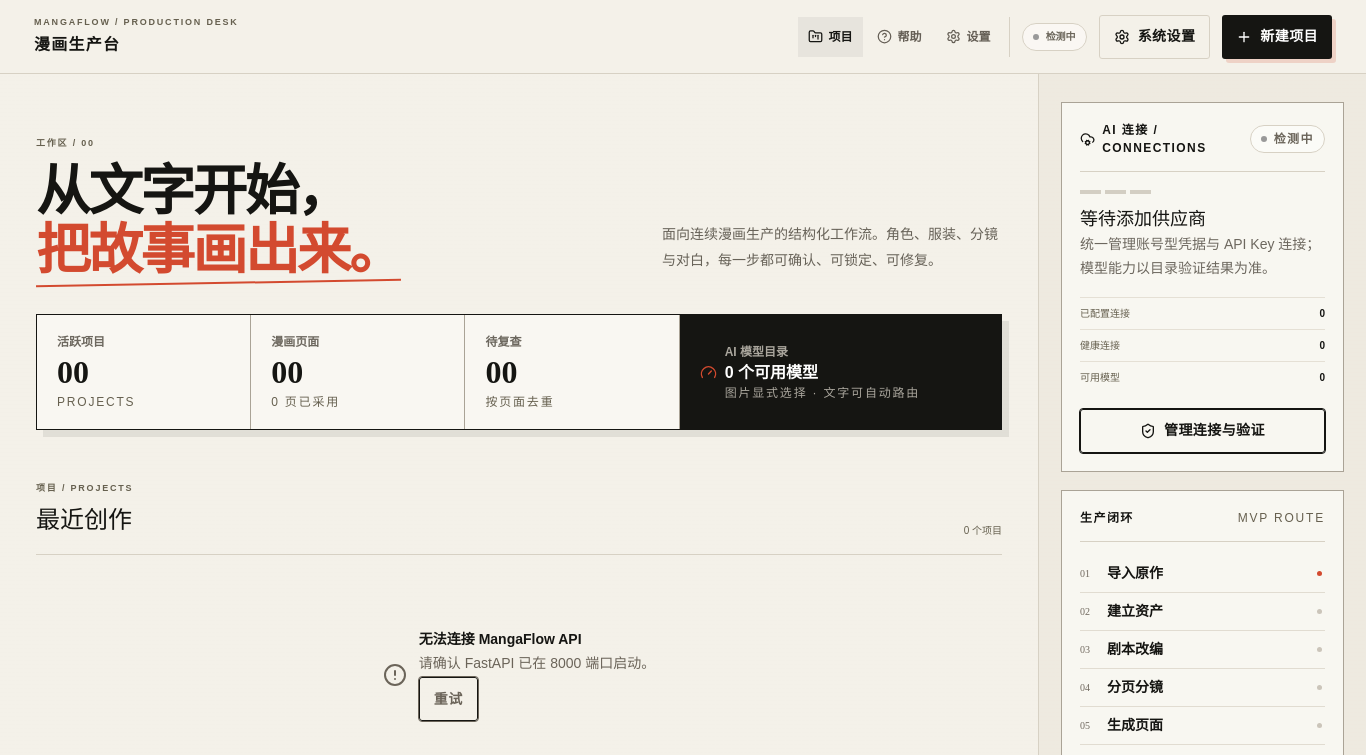
Scenario: HomePage AI 连接摘要 › 仪表盘读取失败显示错误面板并提供重试（#545-6）
Check: the text "无法连接 MangaFlow API" is shown, box [419, 631, 582, 647]
Step 1. Click the button "重试" → [448, 699], box [419, 677, 478, 721]
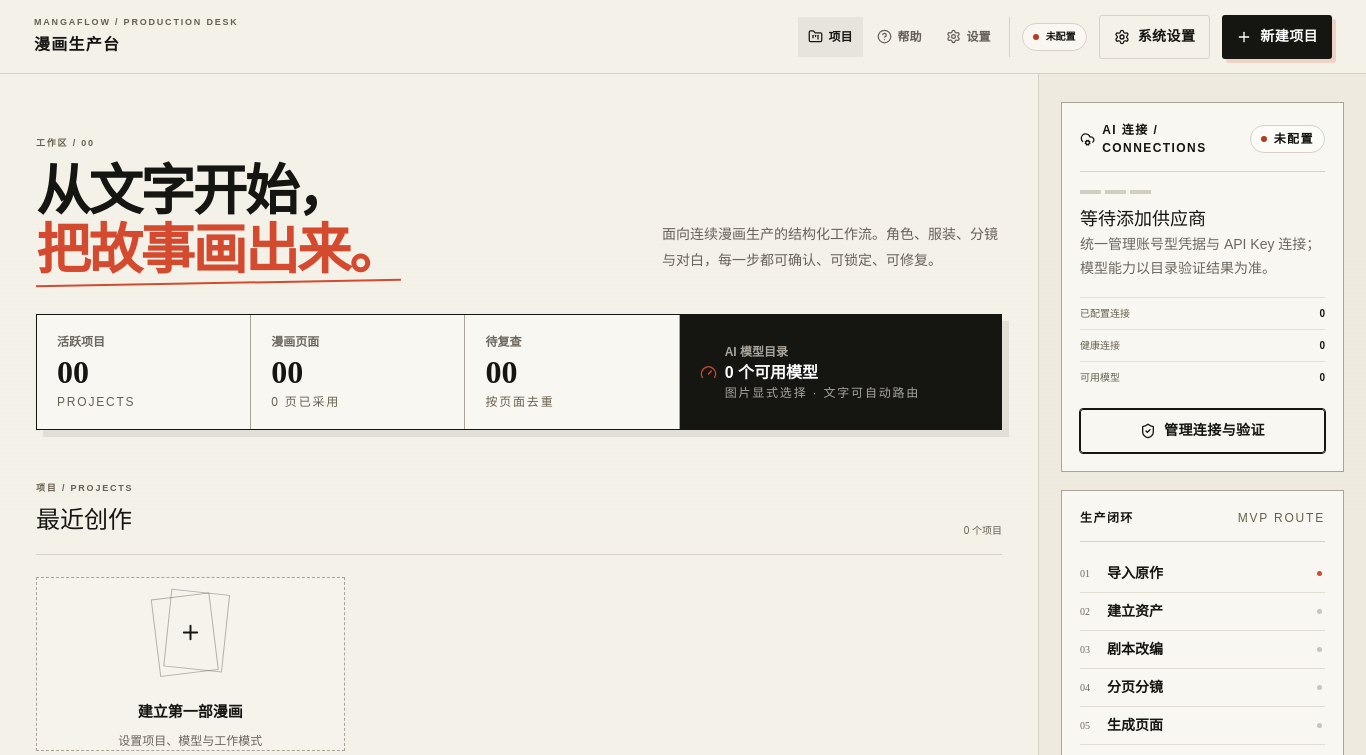
Check: the text "无法连接 MangaFlow API" is gone
